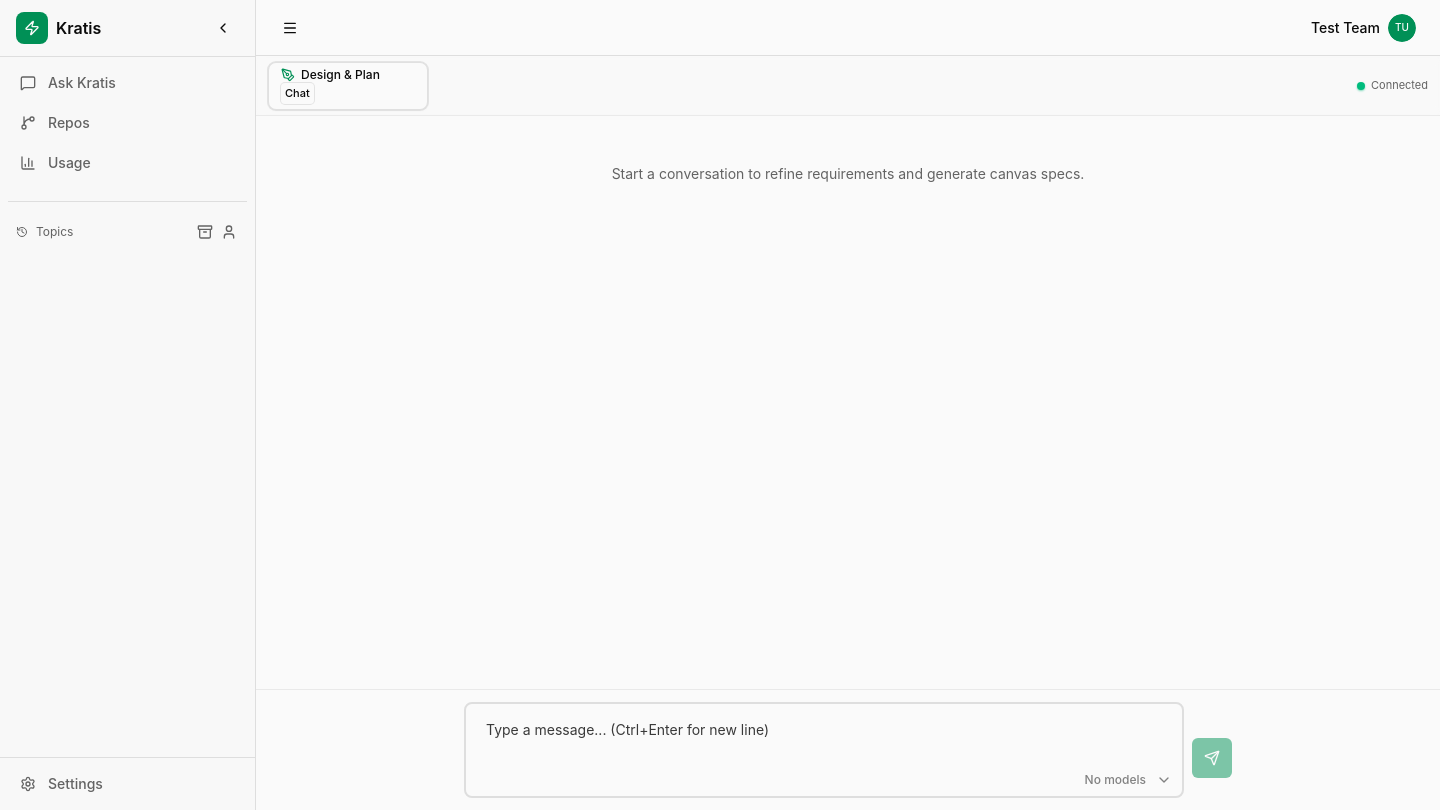
Chat View Flow Integration › shows error message in UI when WebSocket returns an error response
Expected: the text "Chat" is shown, x1=281 y1=83 x2=314 y2=104
Type and send message
Type "Hello" into the text box with placeholder "Type a message... (Ctrl+Enter for new line)" at (824, 750), box x1=474 y1=712 x2=1174 y2=788
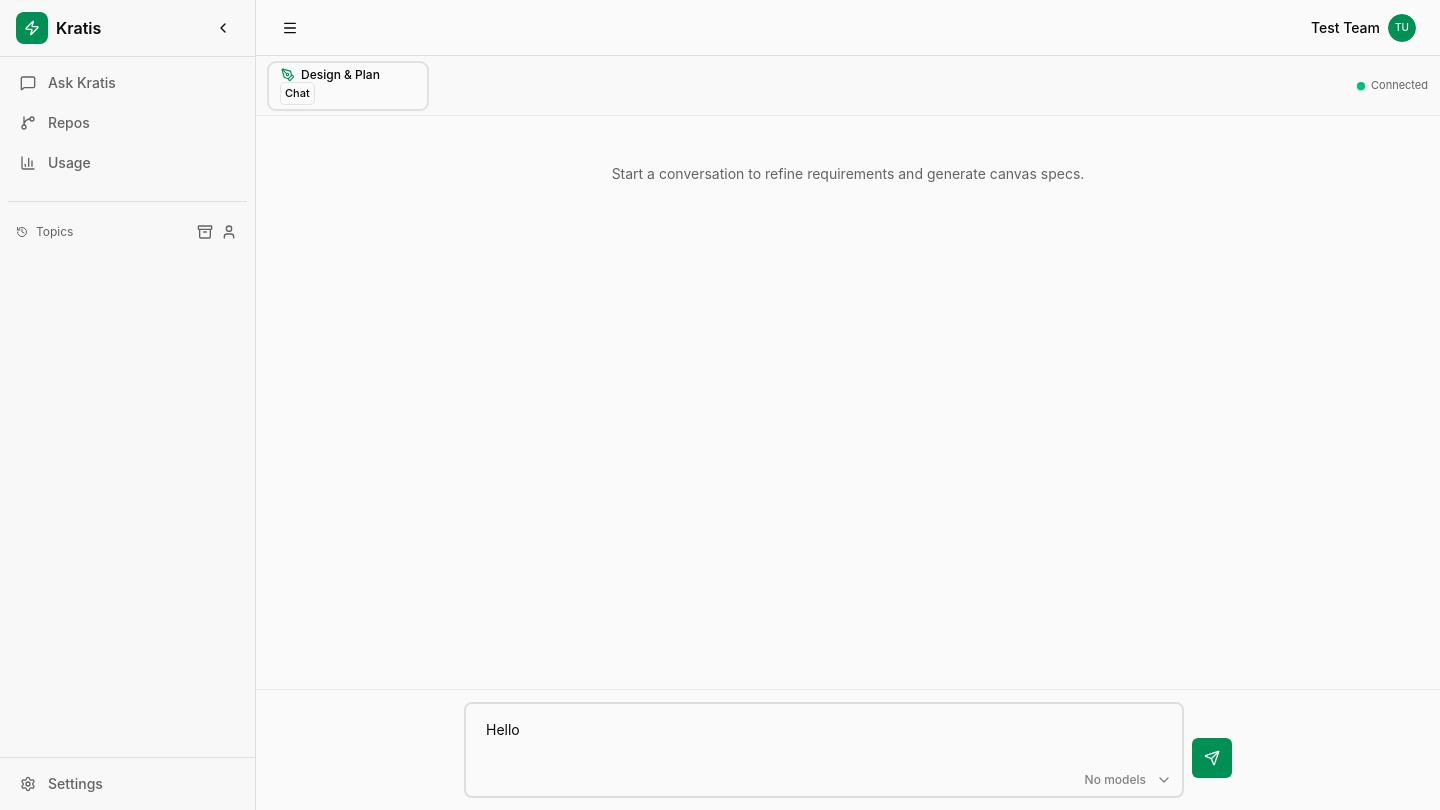
Press Enter
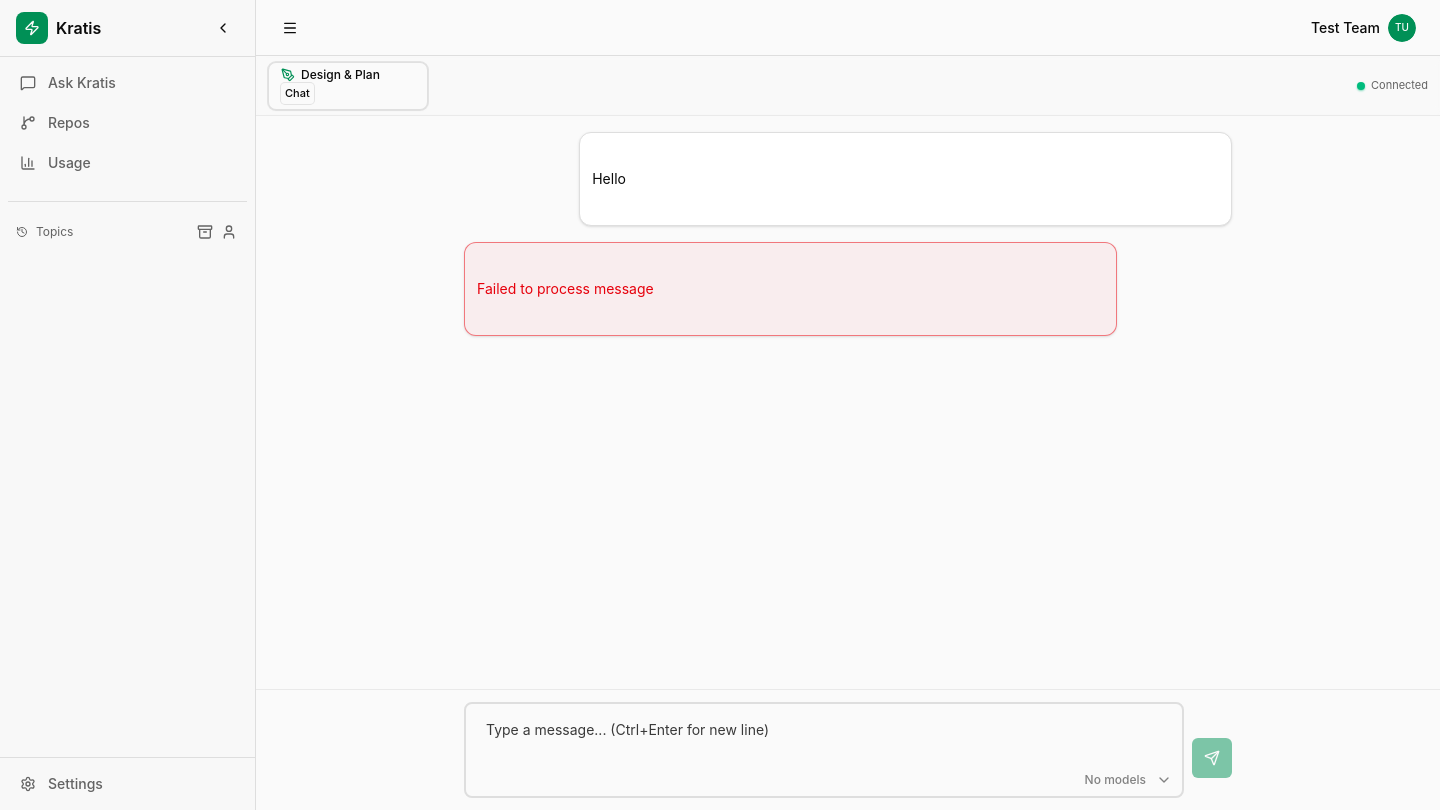
Result: the text "Failed to process message" is shown at x1=477 y1=280 x2=654 y2=297
